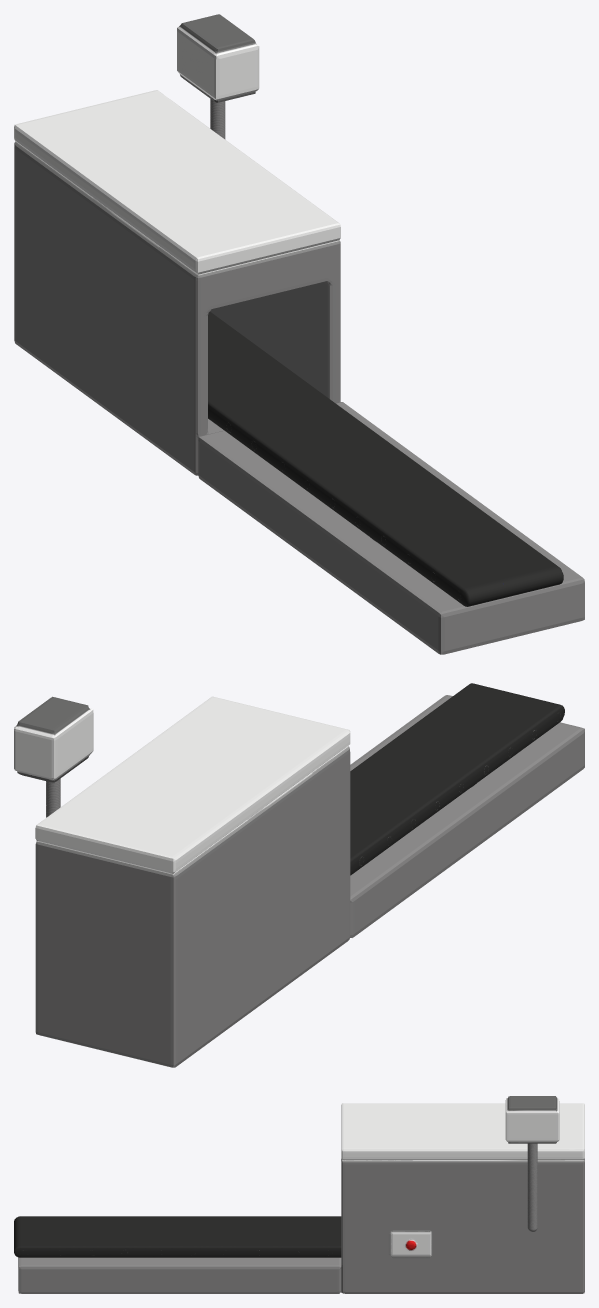
Rendered from laufband.glb.
3 renders of one model, top to bottom at view 1: azimuth 30°, elevation 25°; view 2: azimuth 150°, elevation 25°; view 3: azimuth 270°, elevation 25°, orthographic. The views are drawn at different scales.
Visible parts, largest first — view 1: 272926_23_05_11_15_02_16_0.001, 272926_23_05_11_15_02_16_2.001; view 2: 272926_23_05_11_15_02_16_0.001, 272926_23_05_11_15_02_16_2.001; view 3: 272926_23_05_11_15_02_16_0.001, 272926_23_05_11_15_02_16_2.001, 272926_23_05_11_15_02_16_4.001.
Part boxes in pixels (x1,y1,x2,y2): 272926_23_05_11_15_02_16_0.001: [14, 14, 584, 654]; 272926_23_05_11_15_02_16_2.001: [208, 312, 563, 606]; 272926_23_05_11_15_02_16_0.001: [14, 695, 584, 1067]; 272926_23_05_11_15_02_16_2.001: [350, 683, 564, 875]; 272926_23_05_11_15_02_16_0.001: [18, 1096, 584, 1293]; 272926_23_05_11_15_02_16_2.001: [14, 1216, 341, 1257]; 272926_23_05_11_15_02_16_4.001: [527, 1143, 537, 1232].
Size of the model in its own units: 17.1 by 26.27 by 68.25.
4 materials, 4 textured.
